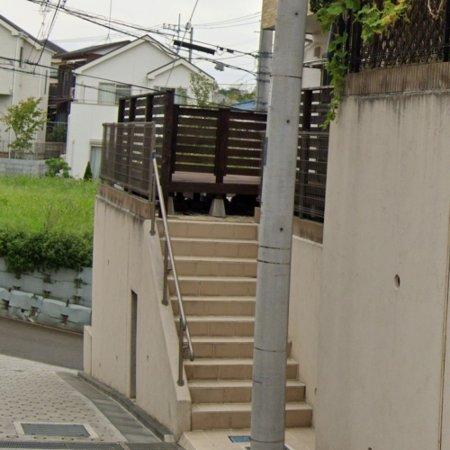stairs: (286, 360, 313, 428)
